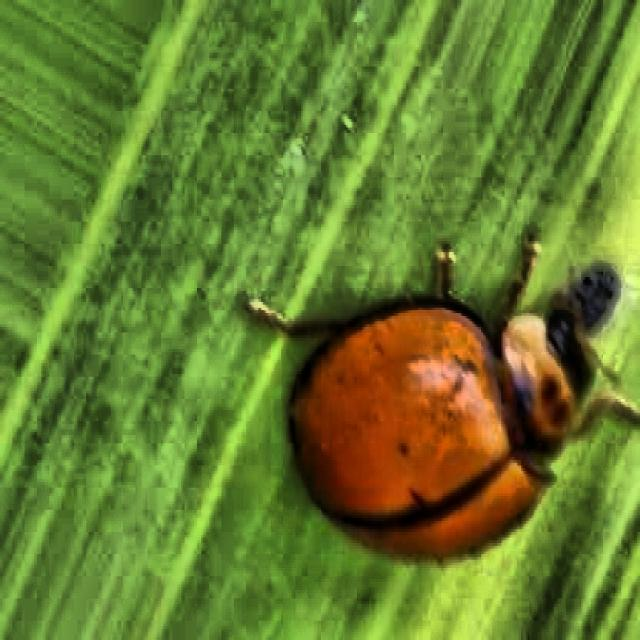Ladybug: (214, 189, 636, 613)
